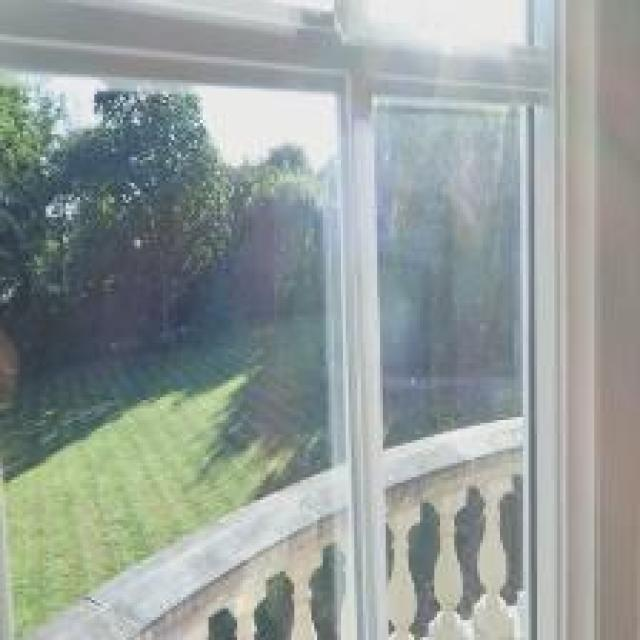other: (188, 95, 352, 176)
